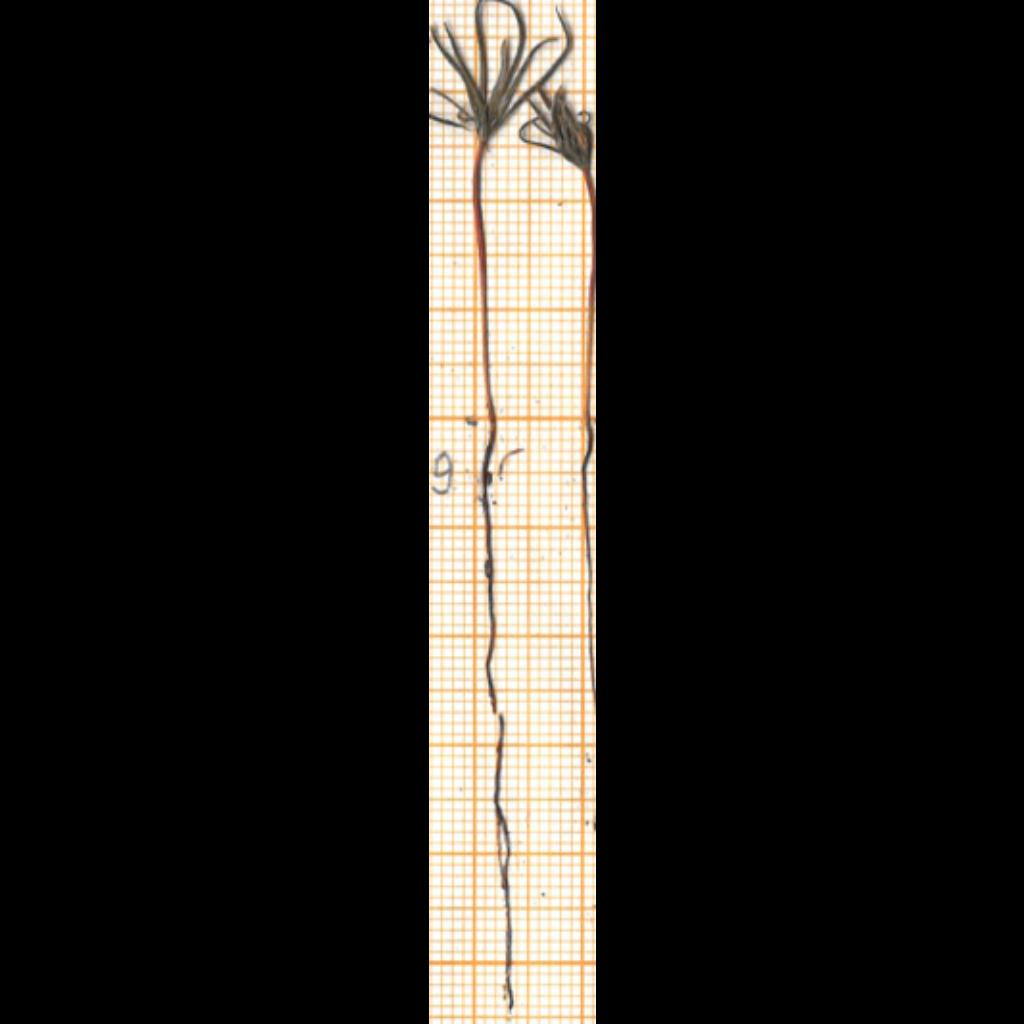flowerPinus: (429, 0, 571, 144), (520, 85, 592, 171)
rootPinus: (495, 717, 513, 1008), (583, 426, 595, 696)
stemPinus: (474, 141, 496, 429), (585, 172, 595, 425)
